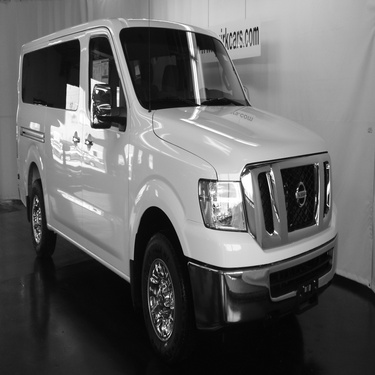car: (3, 14, 341, 363)
